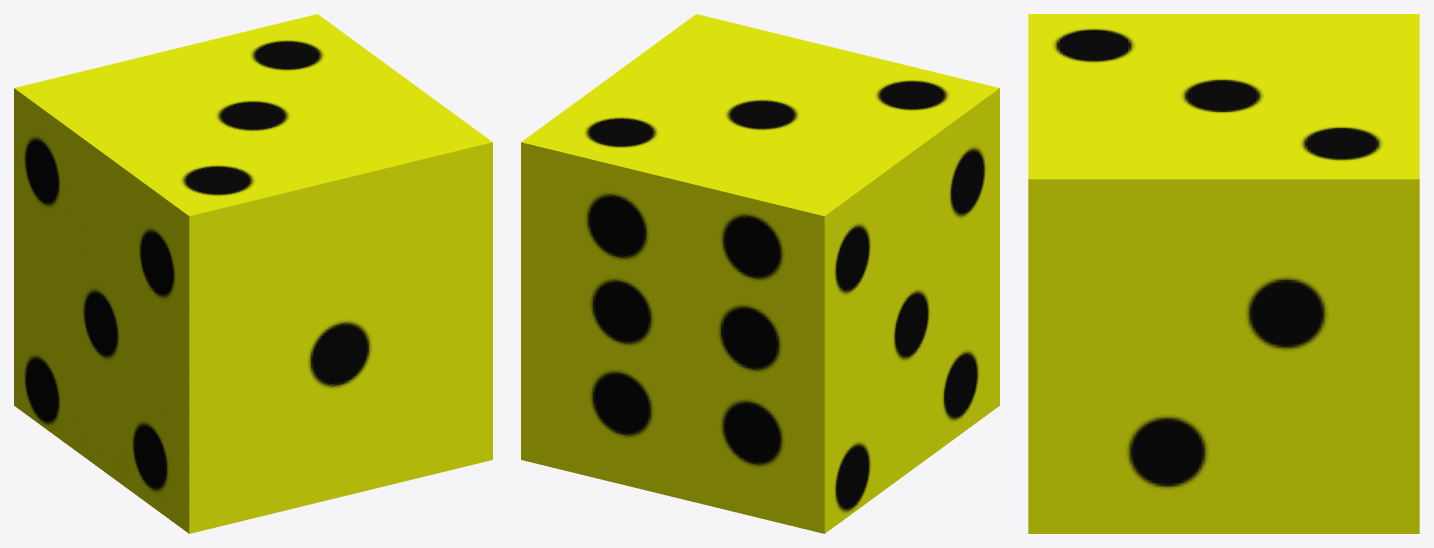
Rendered from dice.fbx.
The picture shows the model from 3 angles, left to right: view 1: azimuth 30°, elevation 25°; view 2: azimuth 150°, elevation 25°; view 3: azimuth 270°, elevation 25°; orthographic projection. The views are drawn at different scales.
Visible parts, largest first — view 1: pCube3; view 2: pCube3; view 3: pCube3.
Part boxes in pixels (bbox=[...]): pCube3: bbox=[14, 14, 492, 533]; pCube3: bbox=[521, 14, 999, 533]; pCube3: bbox=[1028, 14, 1419, 533].
Size of the model in its own units: 1 by 1 by 1.
Materials: 1 (1 with a texture image).
